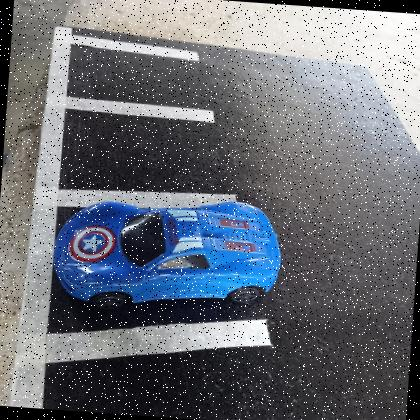Car: (53, 201, 282, 314)
